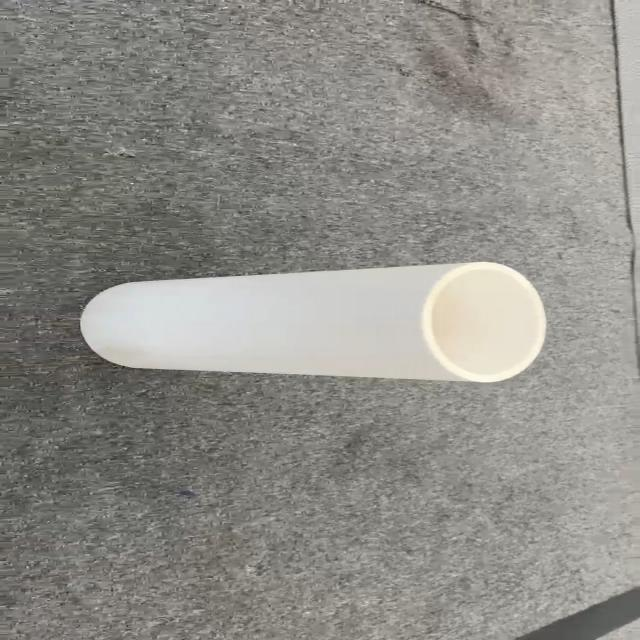coral: (78, 260, 548, 384)
